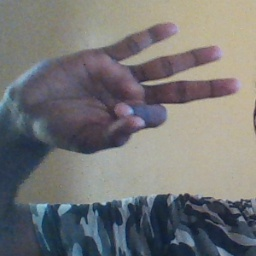K: (17, 21, 243, 156)
